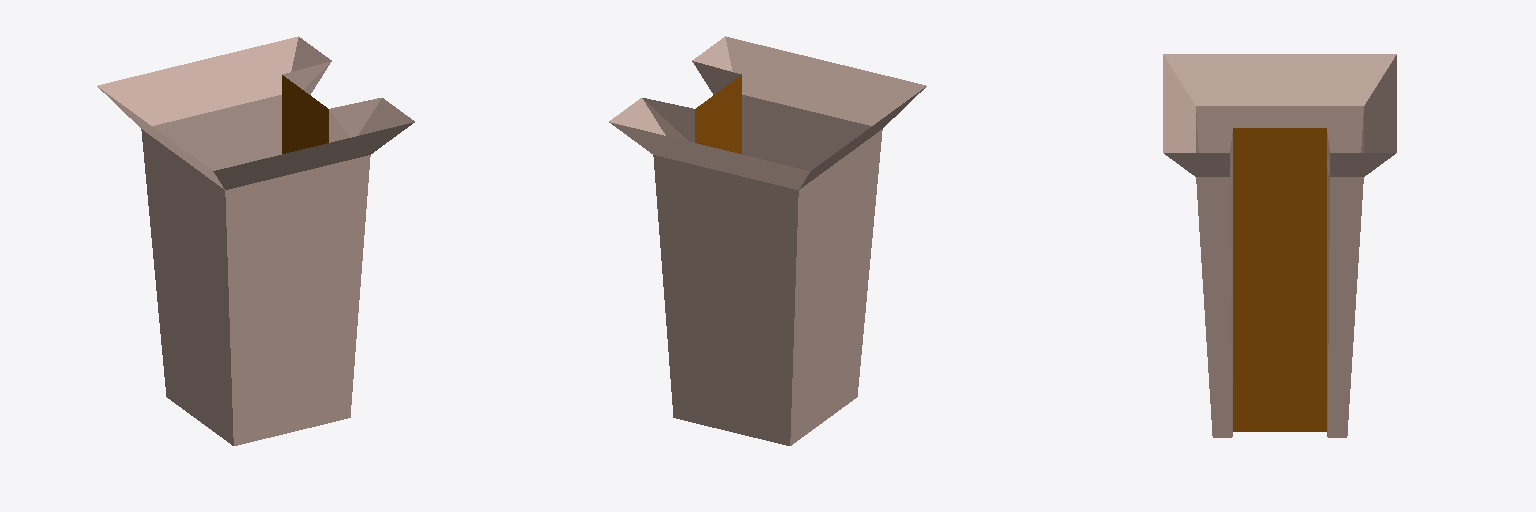
File: climtow.obj
3 renders of one model, left to right at view 1: azimuth 30°, elevation 25°; view 2: azimuth 150°, elevation 25°; view 3: azimuth 270°, elevation 25°, orthographic.
Visible parts, largest first — view 1: Cube.047; view 2: Cube.047; view 3: Cube.047.
Part boxes in pixels (x1,y1,x2,y2): Cube.047: (97, 36, 414, 445); Cube.047: (609, 36, 926, 445); Cube.047: (1163, 54, 1396, 437).
Bounding box in the file's own units: 111 × 160 × 111.